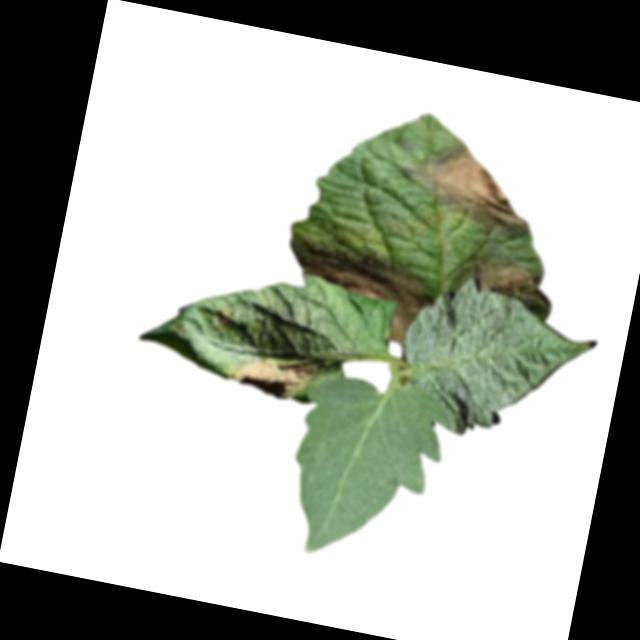Late_blight: (274, 231, 439, 349), (394, 131, 545, 237), (229, 344, 322, 405), (466, 253, 554, 306)
